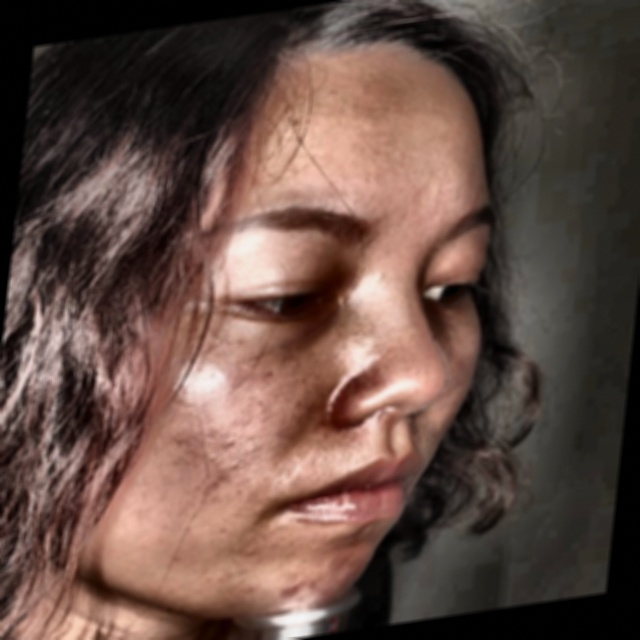comedone: (324, 547, 355, 570), (273, 577, 302, 601)
